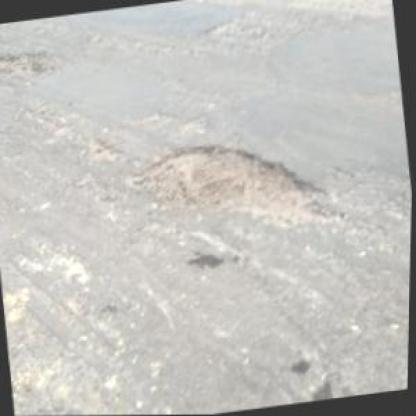pothole: (129, 124, 345, 250), (0, 44, 64, 90), (201, 14, 273, 46)
